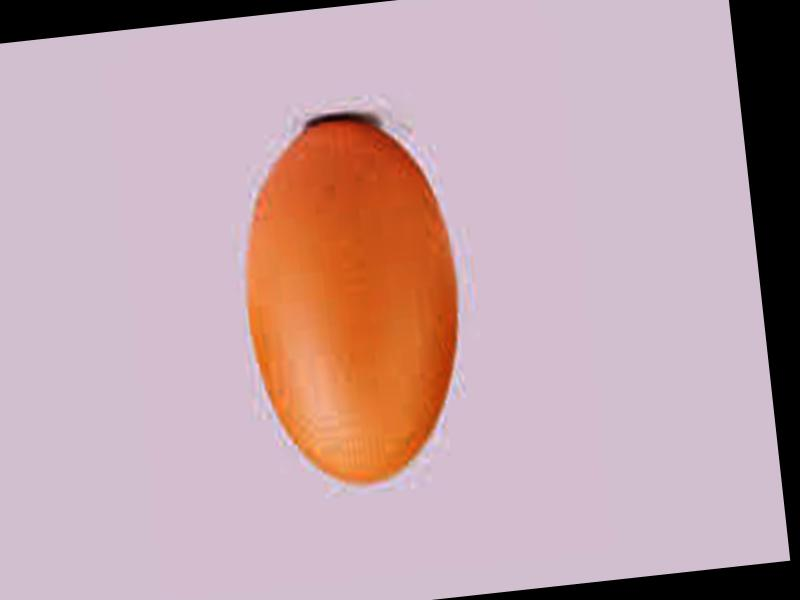Eggs: (231, 105, 475, 499)
